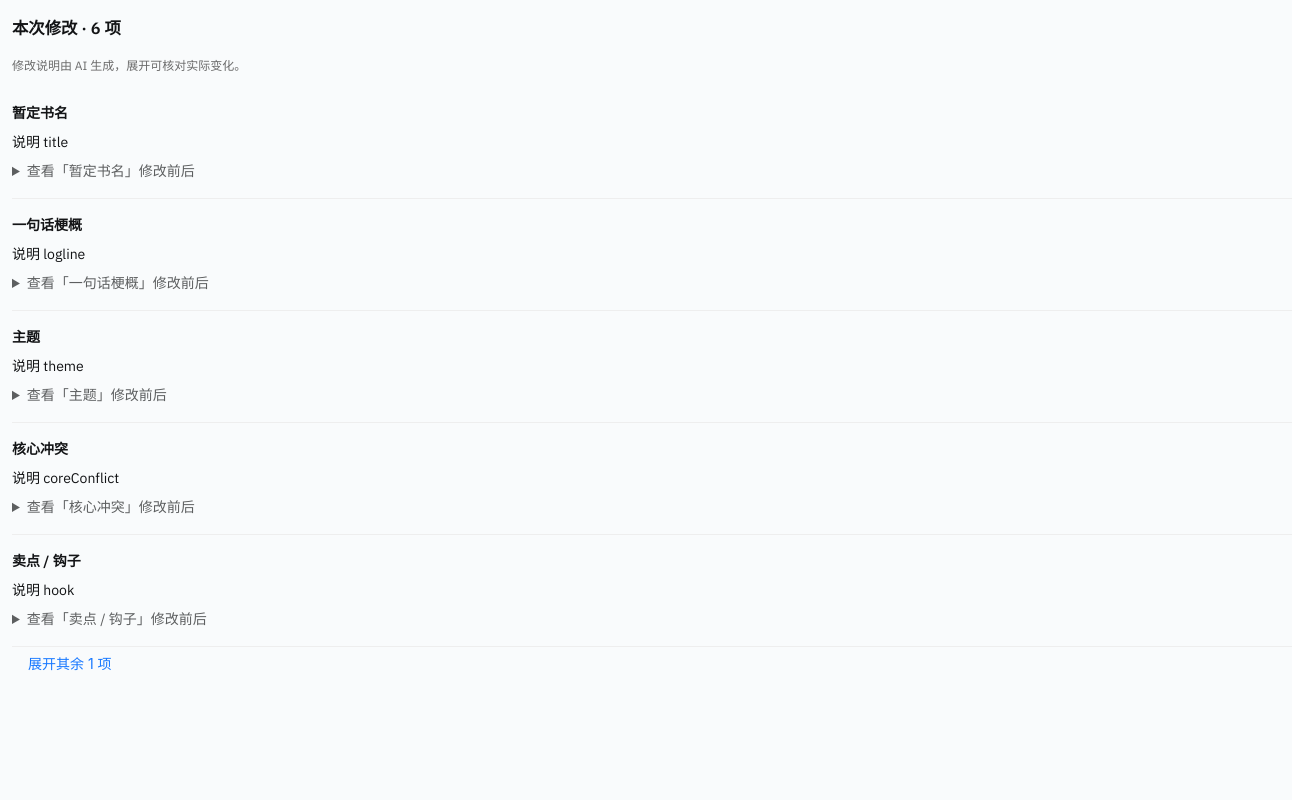
超过五项可展开剩余项，总数保持完整
Check: the heading "本次修改 · 6 项" is shown, box [12,17,121,39]
Check: the heading "主角 / 姓名" is not shown
Click the button "展开其余 1 项".
click(70, 663)  # box [12,647,128,679]
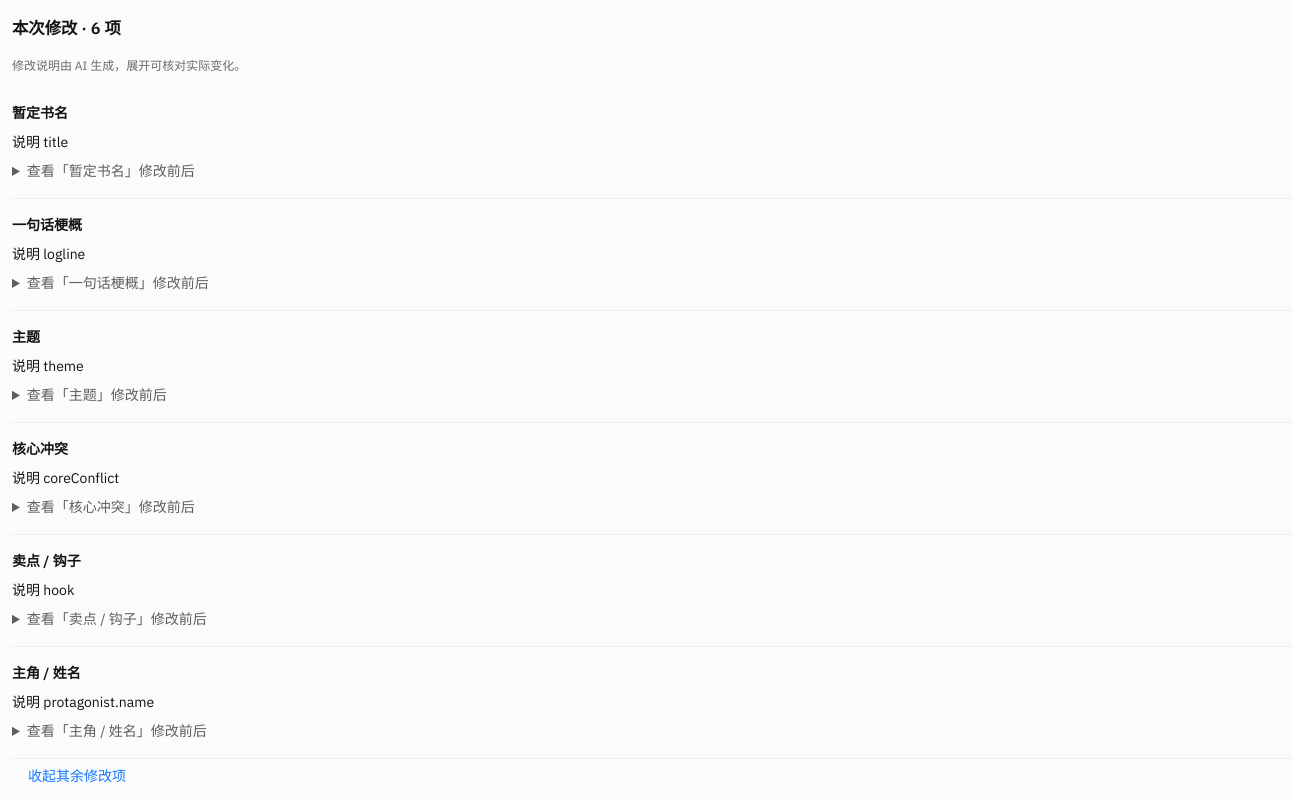
Check: the heading "主角 / 姓名" is shown, box [12,664,81,682]
Click the button "收起其余修改项".
click(77, 775)  # box [12,759,142,791]
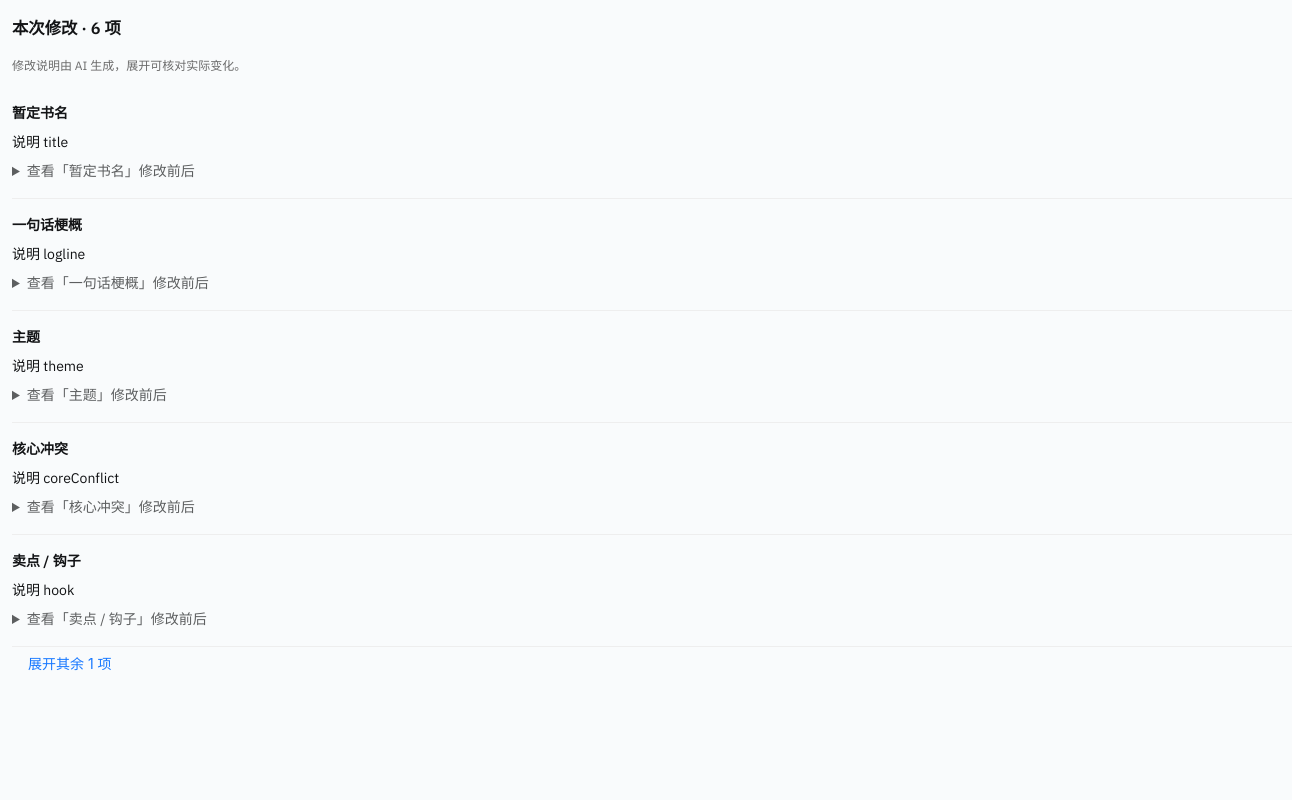
Check: the heading "主角 / 姓名" is gone
